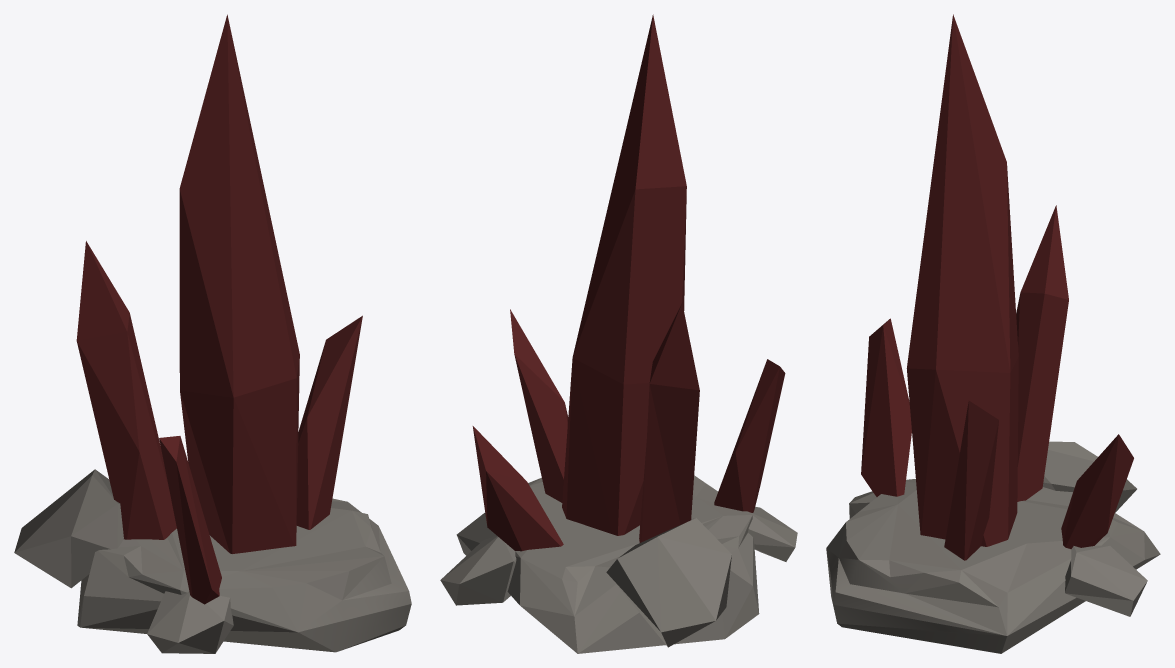
Rendered from SM_Env_Gem_Spike_02.glb.
3 views of the same model, side by side, from view 1: azimuth 30°, elevation 25°; view 2: azimuth 150°, elevation 25°; view 3: azimuth 270°, elevation 25° (orthographic). The views are drawn at different scales.
Parts seen in each view (by area): view 1: SM_Env_Gem_Spike_02; view 2: SM_Env_Gem_Spike_02; view 3: SM_Env_Gem_Spike_02.
Boxes of the visible parts, x1,y1,x2,y2 form: SM_Env_Gem_Spike_02: (14, 14, 411, 653); SM_Env_Gem_Spike_02: (440, 14, 797, 653); SM_Env_Gem_Spike_02: (826, 14, 1160, 653).
Bounding box in the file's own units: 0.00967 × 0.0179 × 0.00935.
Materials: 1 (1 with a texture image).
